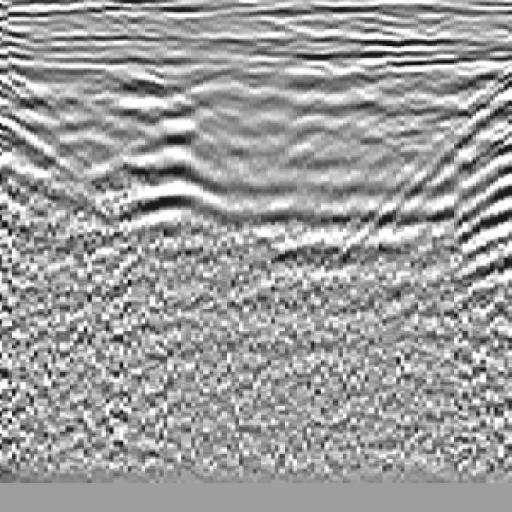metalic: (82, 85, 273, 259)
nonmetalic: (348, 55, 512, 315)
